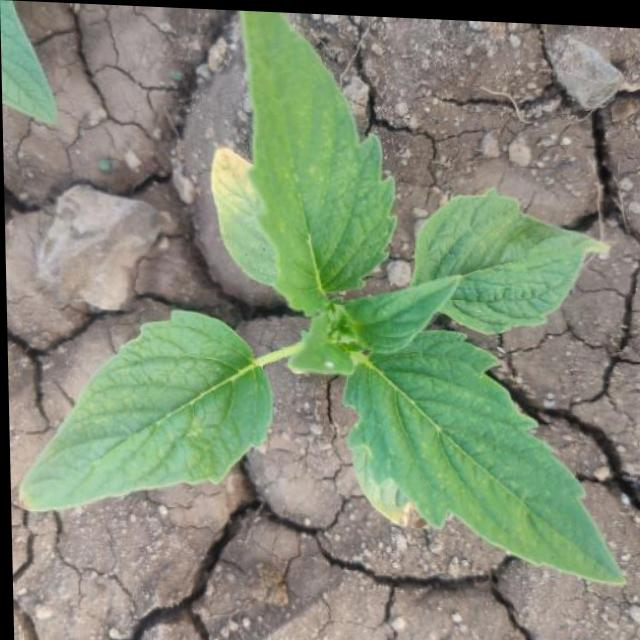crop: (30, 7, 622, 585)
